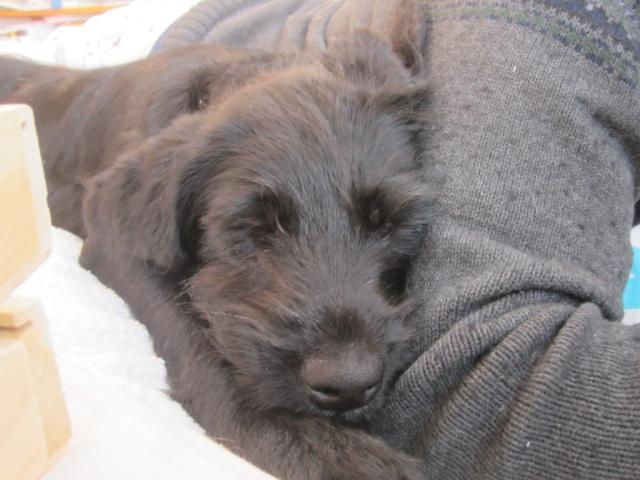Dog: (0, 2, 439, 480)
